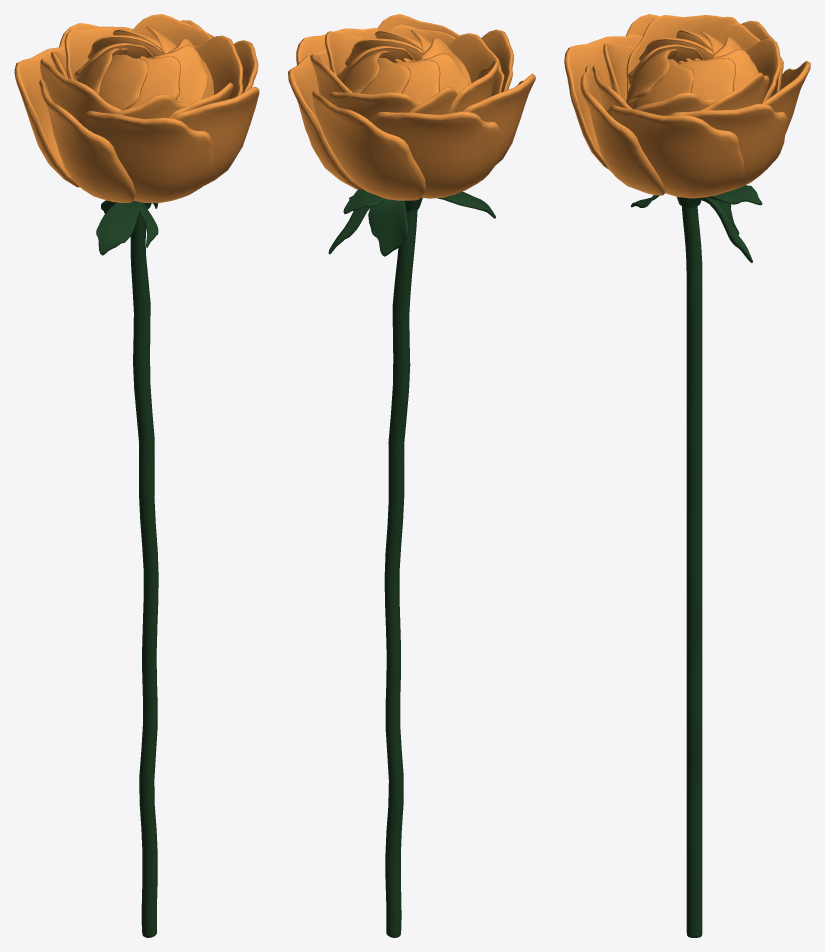
File: Orange_Rose_Model.fbx
The picture shows the model from 3 angles, left to right: view 1: azimuth 30°, elevation 25°; view 2: azimuth 150°, elevation 25°; view 3: azimuth 270°, elevation 25°; orthographic projection.
Parts seen in each view (by area): view 1: Stem, pCube55, pCube60, pCube57, pCube52, pCube65, pCube39, pCube38, pCube54, pCube45, pCube46, pCube64 (+6 smaller); view 2: Stem, pCube52, pCube59, pCube56, pCube60, pCube75, pCube62, pCube61, pCube42, pCube43, pCube65, pCube38 (+14 smaller); view 3: Stem, pCube58, pCube56, pCube57, pCube55, pCube65, pCube41, pCube44, pCube46, pCube59, pCube64, pCube62 (+9 smaller).
Boxes of the visible parts, bbox=[...] form: Stem: bbox=[130, 212, 158, 937]; pCube55: bbox=[79, 111, 213, 203]; pCube60: bbox=[39, 79, 135, 202]; pCube57: bbox=[172, 86, 259, 185]; pCube52: bbox=[14, 47, 79, 187]; pCube65: bbox=[40, 58, 121, 121]; pCube39: bbox=[98, 54, 147, 110]; pCube38: bbox=[194, 35, 242, 99]; pCube54: bbox=[96, 201, 139, 255]; pCube45: bbox=[128, 56, 180, 108]; pCube46: bbox=[153, 45, 207, 103]; pCube64: bbox=[131, 14, 211, 45]; Stem: bbox=[384, 210, 417, 937]; pCube52: bbox=[369, 111, 499, 198]; pCube59: bbox=[312, 90, 425, 200]; pCube56: bbox=[288, 49, 362, 189]; pCube60: bbox=[463, 73, 535, 165]; pCube75: bbox=[368, 199, 408, 256]; pCube62: bbox=[327, 92, 422, 119]; pCube61: bbox=[447, 33, 504, 96]; pCube42: bbox=[395, 60, 440, 102]; pCube43: bbox=[361, 57, 410, 94]; pCube65: bbox=[448, 60, 499, 113]; pCube38: bbox=[325, 31, 364, 75]; Stem: bbox=[681, 206, 702, 937]; pCube58: bbox=[607, 105, 744, 198]; pCube56: bbox=[669, 103, 787, 191]; pCube57: bbox=[580, 65, 664, 195]; pCube55: bbox=[564, 34, 642, 169]; pCube65: bbox=[626, 15, 738, 96]; pCube41: bbox=[679, 58, 735, 99]; pCube44: bbox=[630, 59, 693, 109]; pCube46: bbox=[626, 49, 677, 106]; pCube59: bbox=[762, 61, 810, 134]; pCube64: bbox=[700, 72, 769, 110]; pCube62: bbox=[742, 38, 781, 103].
Size of the model in its own units: 1.12 by 4.5 by 1.13.
